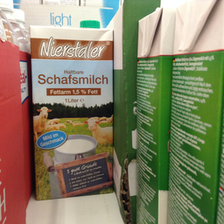milk: (29, 24, 117, 203)
